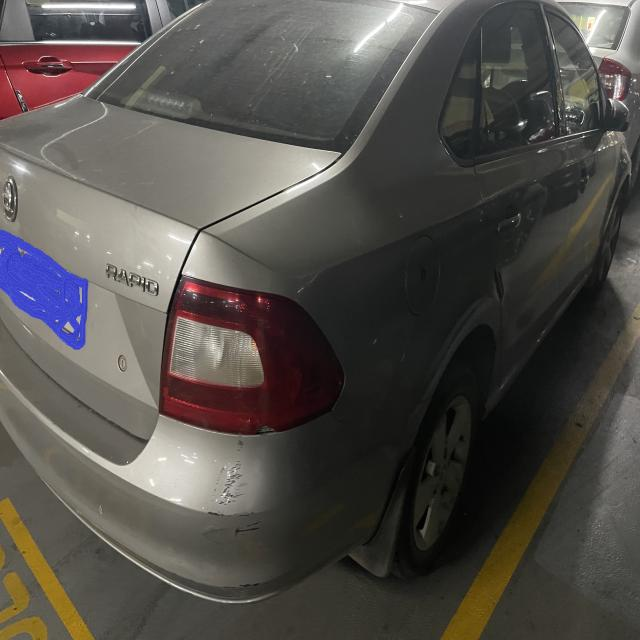scratch: (205, 436, 264, 548), (201, 580, 295, 608)
